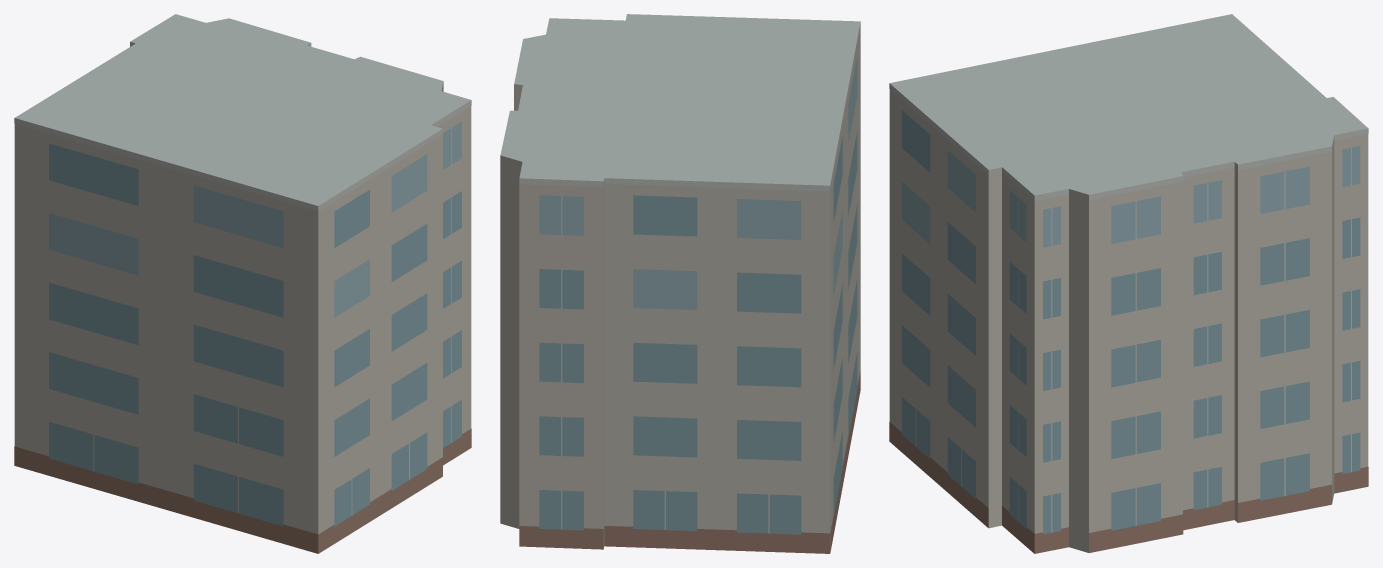
Rendered from survey-upis-32857263.glb.
3 views of the same model, side by side, from view 1: azimuth 30°, elevation 25°; view 2: azimuth 150°, elevation 25°; view 3: azimuth 270°, elevation 25° (orthographic). The views are drawn at different scales.
Parts seen in each view (by area): view 1: survey-upis-32857263.tmp; view 2: survey-upis-32857263.tmp; view 3: survey-upis-32857263.tmp.
Part boxes in pixels (left/top/right/bottom): survey-upis-32857263.tmp: left=14, top=14, right=471, bottom=553; survey-upis-32857263.tmp: left=500, top=14, right=860, bottom=553; survey-upis-32857263.tmp: left=889, top=14, right=1368, bottom=553.
Bounding box in the file's own units: 16.74 × 15.4 × 18.67.
